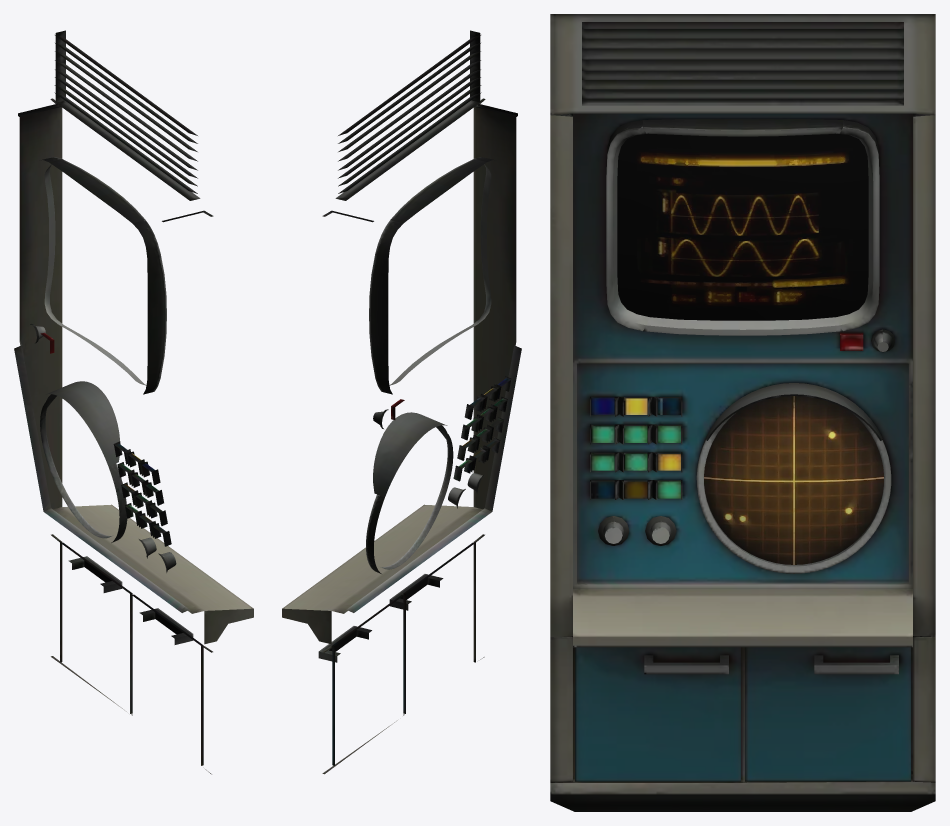
3 views of the same model, side by side, from view 1: azimuth 30°, elevation 25°; view 2: azimuth 150°, elevation 25°; view 3: azimuth 270°, elevation 25° (orthographic). The views are drawn at different scales.
Visible parts, largest first — view 1: body0_model0_lod0_mesh0; view 2: body0_model0_lod0_mesh0; view 3: body0_model0_lod0_mesh0, body0_model0_lod0_mesh2, body0_model0_lod0_mesh1.
Part boxes in pixels (x1,y1,x2,y2): body0_model0_lod0_mesh0: [14, 30, 253, 774]; body0_model0_lod0_mesh0: [282, 30, 521, 774]; body0_model0_lod0_mesh0: [550, 14, 935, 811]; body0_model0_lod0_mesh2: [617, 133, 868, 320]; body0_model0_lod0_mesh1: [704, 396, 883, 564].
Size of the model in its own units: 17.16 by 112 by 47.99.
Materials: 3 (3 with a texture image).
